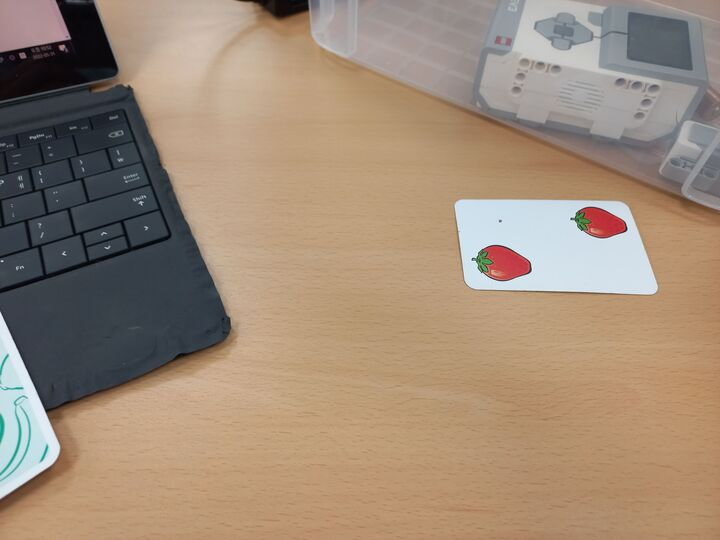strawberry2: (453, 195, 662, 301)
